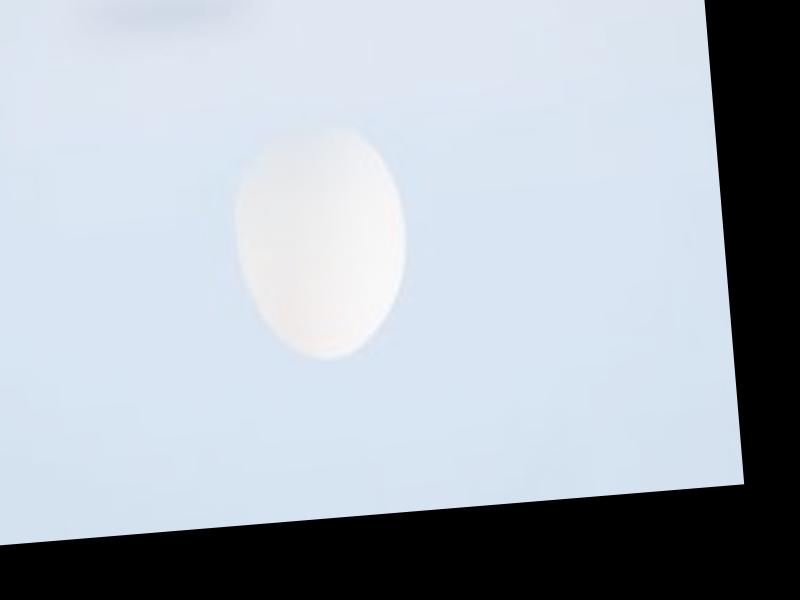Eggs: (225, 114, 415, 366)
